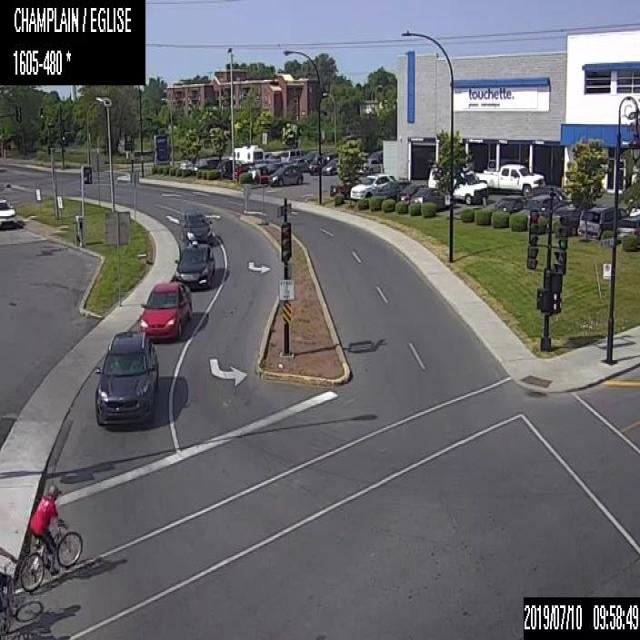cyclist: (18, 482, 83, 590), (0, 544, 18, 639)
vehicle: (92, 330, 158, 428), (139, 281, 192, 340), (427, 165, 488, 202), (476, 162, 544, 195), (173, 240, 215, 284), (577, 204, 628, 239), (349, 173, 394, 200), (179, 209, 212, 244), (411, 186, 448, 210), (553, 203, 582, 233), (524, 192, 558, 217), (374, 178, 411, 200), (268, 164, 302, 185), (329, 174, 361, 196), (494, 194, 530, 213), (617, 212, 639, 241), (228, 144, 264, 161), (396, 181, 426, 201), (309, 152, 336, 174), (256, 161, 284, 181), (0, 196, 15, 228), (217, 158, 241, 177), (298, 150, 318, 170), (234, 160, 254, 180), (358, 158, 382, 173), (247, 161, 266, 179), (280, 148, 304, 162), (194, 157, 222, 169), (321, 156, 338, 174)
